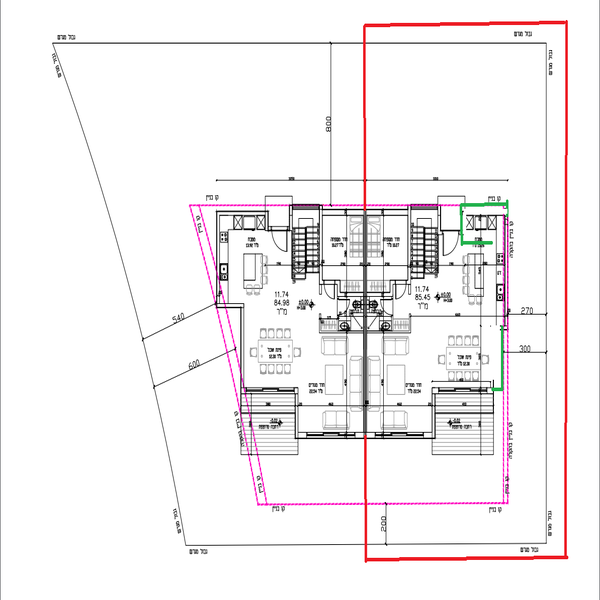door: (443, 227, 463, 262), (320, 277, 341, 301), (273, 228, 290, 252), (396, 281, 410, 303), (379, 299, 395, 313)
